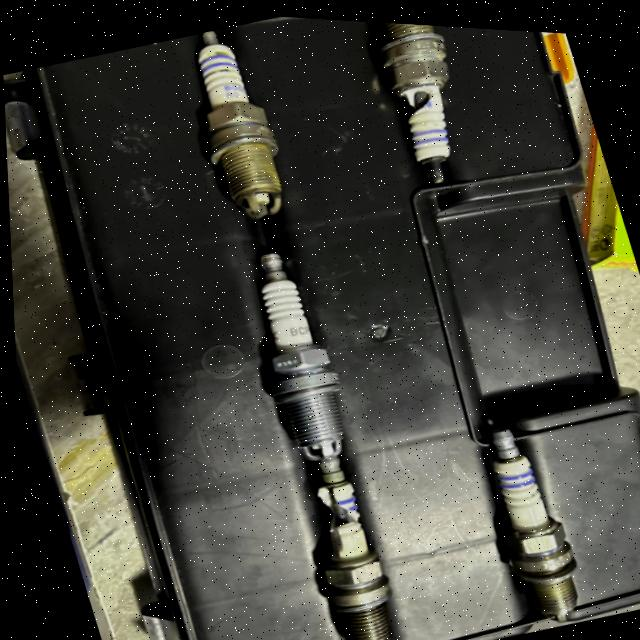damaged_spark-plug: (278, 455, 409, 640), (358, 17, 492, 187)
spark-plug: (223, 232, 366, 475), (170, 18, 299, 229), (467, 407, 590, 624)
